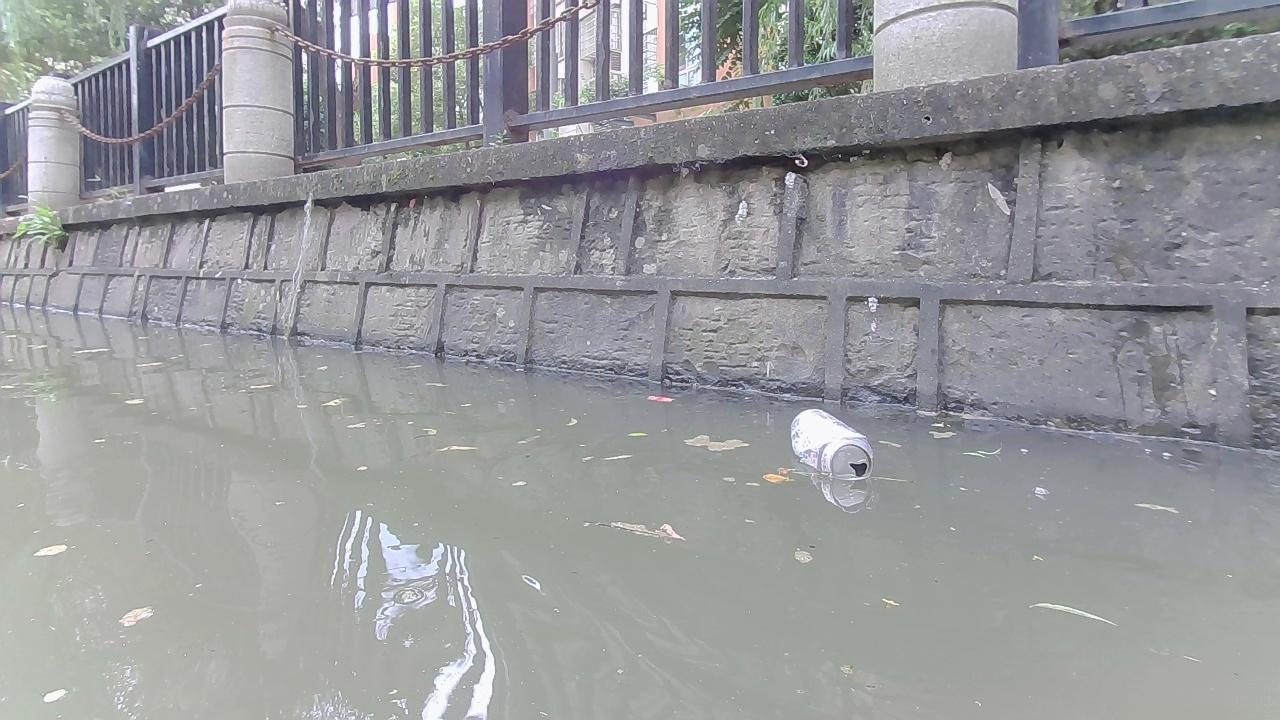Metal: (789, 407, 875, 482)
